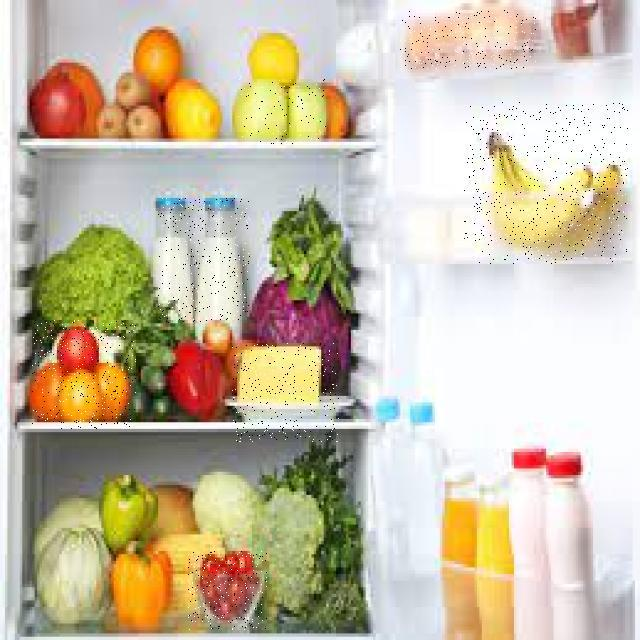apple: (235, 79, 326, 145)
banana: (464, 102, 628, 264)
cheese: (232, 343, 339, 442)
eggs: (401, 10, 536, 69)
milk: (158, 198, 250, 323)
tomatoes: (32, 320, 136, 429), (188, 551, 267, 630)
